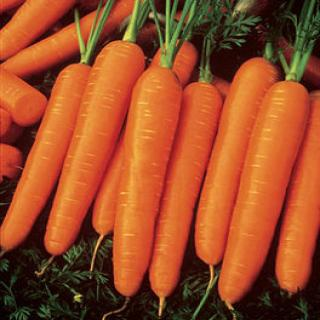Wortel: (16, 35, 320, 272)
